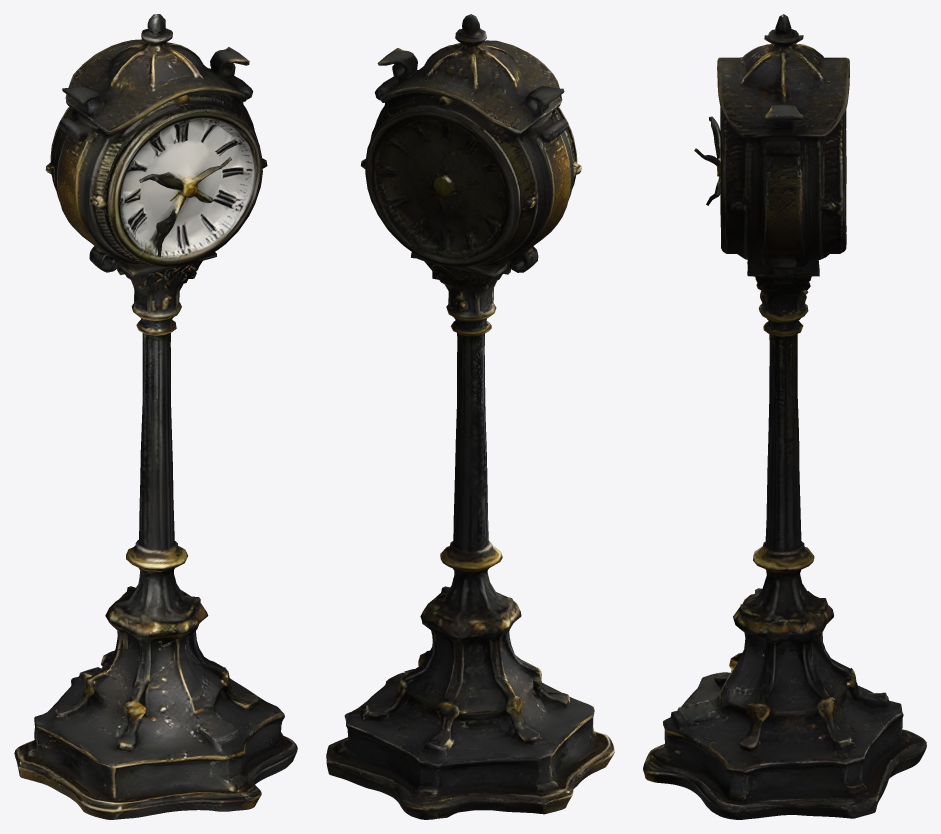
The model's file is street_clock.glb.
The picture shows the model from 3 angles, left to right: view 1: azimuth 30°, elevation 25°; view 2: azimuth 150°, elevation 25°; view 3: azimuth 270°, elevation 25°; orthographic projection.
Parts seen in each view (by area): view 1: Part; view 2: Part; view 3: Part.
Boxes of the visible parts, <box> form: Part: <box>14,14,297,819</box>; Part: <box>326,14,614,819</box>; Part: <box>643,14,926,819</box>.
Bounding box in the file's own units: 1.3 × 4 × 1.37.
Materials: 1 (1 with a texture image).
